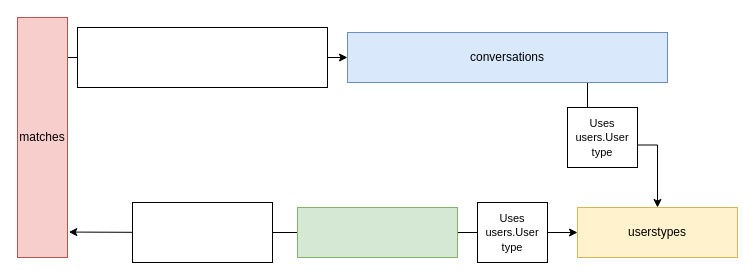
The diagram is 755 pixels wide and 280 high, and some of its shapes have lost their labels. Each missing label, with the box of its shape:
matches.UnmatchUsers() calls conversations.LeaveAllConversationsWithUser(): (76, 26, 328, 88)
users: (296, 206, 458, 258)
users.BlockUser() calls matches.UnmatchUsers(): (132, 202, 272, 262)
